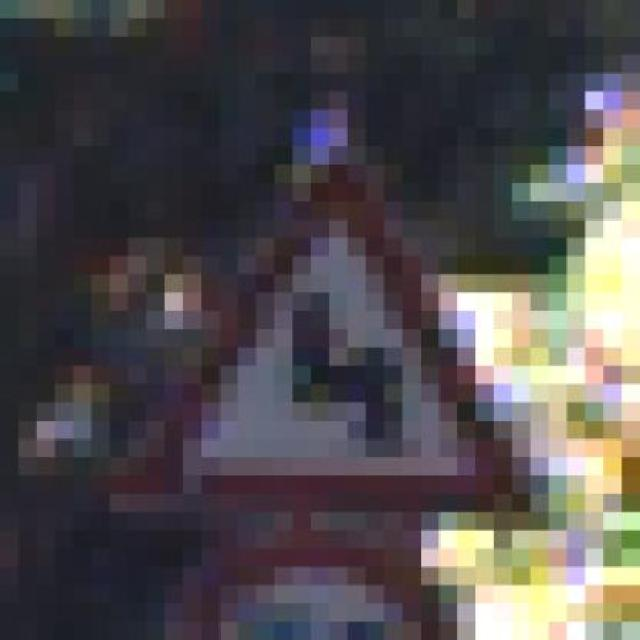Left Zig Zag Traffic: (91, 128, 548, 530)
